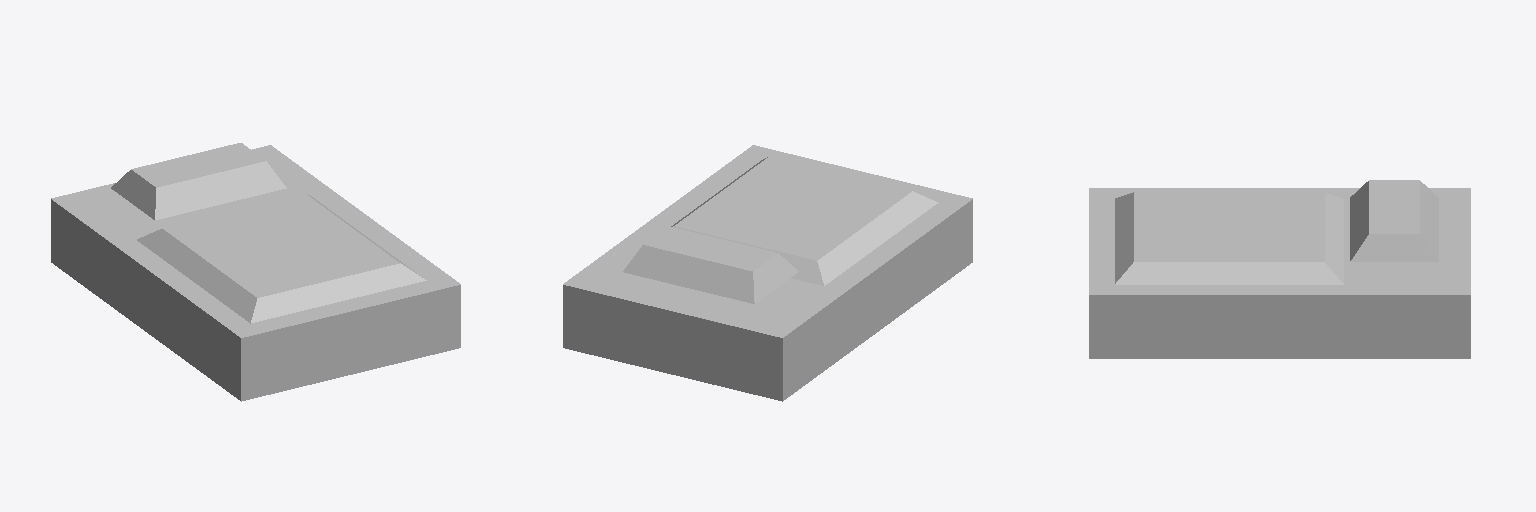
Rendered from Japanese Bed.obj.
3 views of the same model, side by side, from view 1: azimuth 30°, elevation 25°; view 2: azimuth 150°, elevation 25°; view 3: azimuth 270°, elevation 25° (orthographic).
Visible parts, largest first — view 1: polygon1.149, polygon3.084, polygon4.071, polygon2.122, polygon0.152; view 2: polygon1.149, polygon3.084, polygon4.071, polygon2.122, polygon0.152; view 3: polygon3.084, polygon1.149, polygon4.071, polygon2.122, polygon0.152.
Part boxes in pixels (bbox=[...]): polygon1.149: bbox=[51, 211, 460, 401]; polygon3.084: bbox=[137, 194, 426, 323]; polygon4.071: bbox=[51, 145, 460, 349]; polygon2.122: bbox=[111, 143, 286, 219]; polygon0.152: bbox=[88, 179, 300, 237]; polygon1.149: bbox=[563, 211, 972, 401]; polygon3.084: bbox=[671, 156, 938, 285]; polygon4.071: bbox=[563, 145, 972, 349]; polygon2.122: bbox=[623, 226, 798, 303]; polygon0.152: bbox=[601, 262, 817, 324]; polygon3.084: bbox=[1115, 192, 1343, 284]; polygon1.149: bbox=[1089, 307, 1470, 358]; polygon4.071: bbox=[1089, 188, 1470, 306]; polygon2.122: bbox=[1350, 180, 1438, 261]; polygon0.152: bbox=[1344, 201, 1451, 281].
Bounding box in the file's own units: 4 × 1.7 × 6.